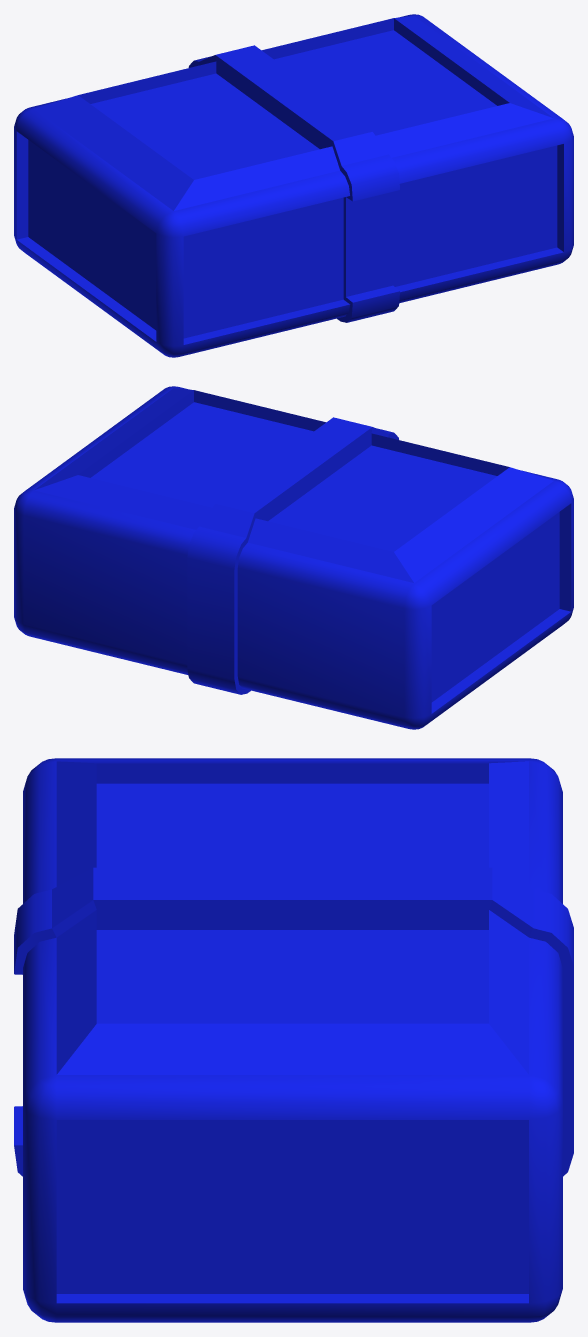
File: icymetalchest 1.FBX
The picture shows the model from 3 angles, top to bottom: view 1: azimuth 30°, elevation 25°; view 2: azimuth 150°, elevation 25°; view 3: azimuth 270°, elevation 25°; orthographic projection. The views are drawn at different scales.
Parts seen in each view (by area): view 1: ChamferBox001; view 2: ChamferBox001; view 3: ChamferBox001.
Part boxes in pixels (x1,y1,x2,y2): ChamferBox001: (14,14,573,357); ChamferBox001: (14,386,573,729); ChamferBox001: (14,758,573,1322).
Size of the model in its own units: 36 by 14.18 by 24.89.
